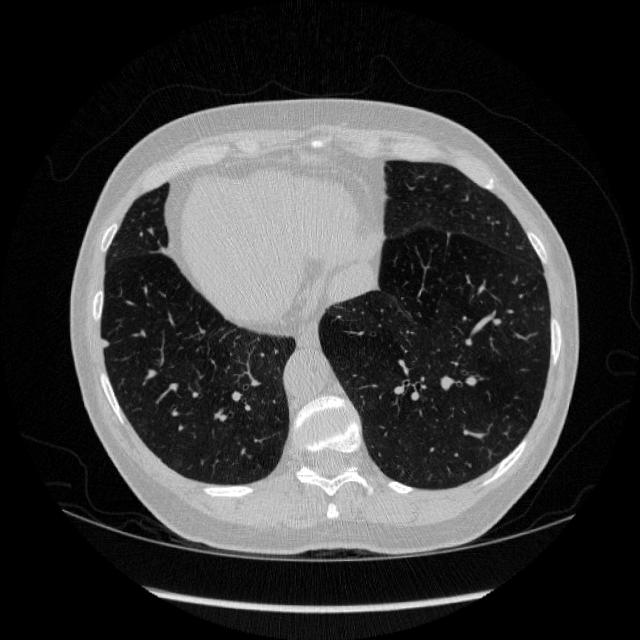nodule: (96, 332, 116, 352)
